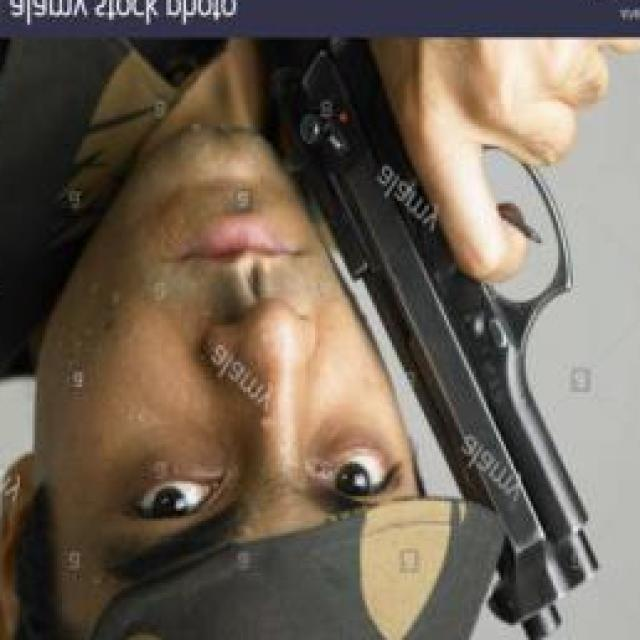pistol: (270, 37, 606, 640)
